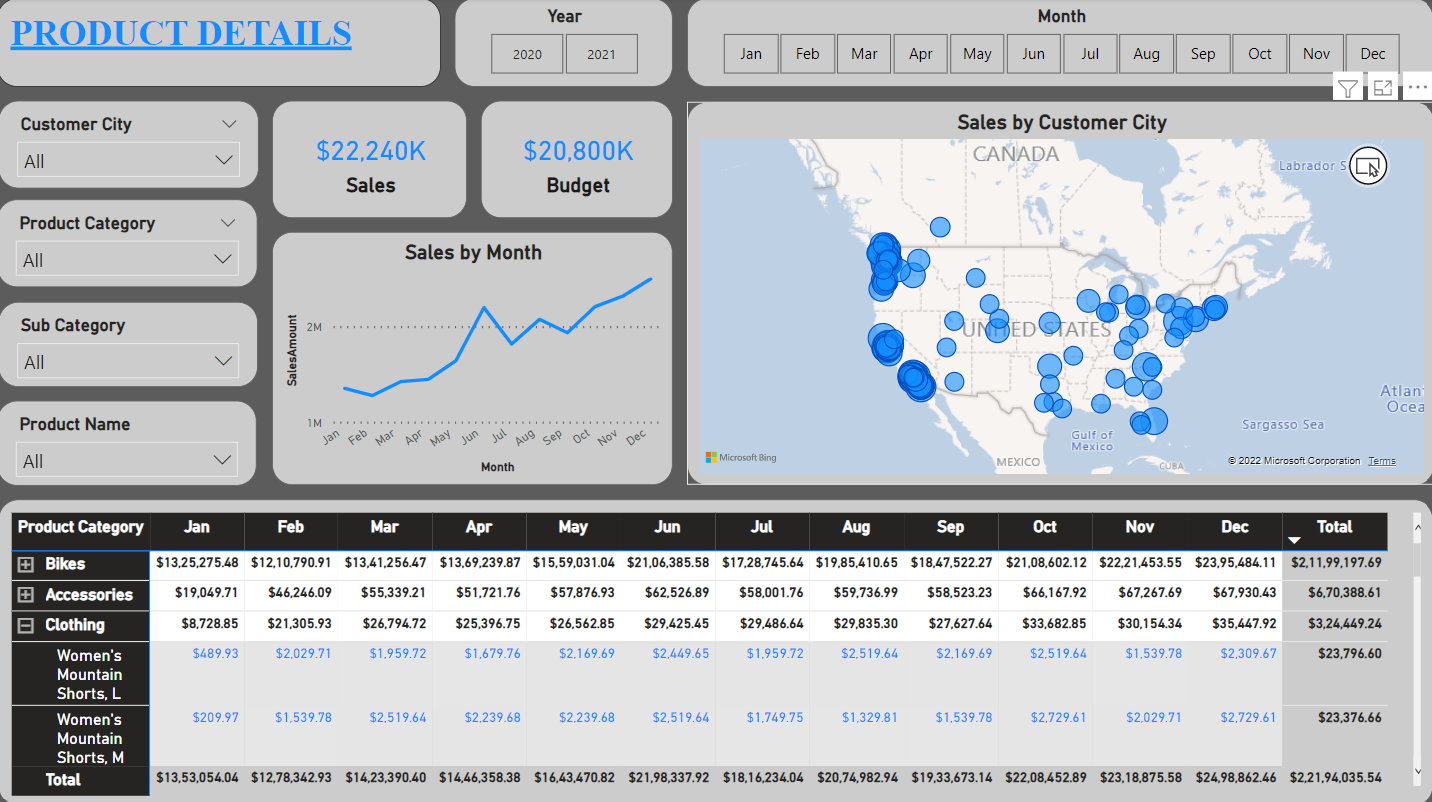

What the dashboard file says about the page in this screenshot:
{"tool":"powerbi","page":{"name":"Product Details","canvas":[1280,720],"ordinal":2},"visuals":[{"type":"textbox","box":[0,0,395.6,79.6],"z":0},{"type":"slicer","fields":{"Values":["DIM_Product.Product Category"]},"box":[0,179.7,232,78.4],"z":1000},{"type":"slicer","fields":{"Values":["DIM_Product.Sub Category"]},"box":[1.2,270.2,231.6,76],"z":2000},{"type":"slicer","fields":{"Values":["DIM_Product.Product Name"]},"box":[0,358.2,231.6,76],"z":3000},{"type":"slicer","fields":{"Values":["DIM_Customers.Customer City"]},"box":[1.2,91.7,232,78],"z":4000},{"type":"slicer","title":"Year","fields":{"Values":["DIM_Calendar.Year"]},"box":[407.6,0,194.2,79.6],"z":5000},{"type":"slicer","title":"Month","fields":{"Values":["DIM_Calendar.MonthShort"]},"box":[613.9,0,665.7,79.6],"z":6000},{"type":"pivotTable","fields":{"Rows":["DIM_Product.Product Category","DIM_Product.Product Name"],"Columns":["DIM_Calendar.MonthShort"],"Values":["Analysis Metrics.Sales"]},"box":[1.2,446.2,1278.8,273.8],"z":7000},{"type":"card","fields":{"Values":["Analysis Metrics.Sales"]},"box":[244.8,91.7,173.7,104.9],"z":8000},{"type":"card","fields":{"Values":["Analysis Metrics.Budget_Amount"]},"box":[430.6,91.7,171.3,104.9],"z":9000},{"type":"lineChart","title":"Sales by Month","fields":{"Y":["Sum(FACT_InternetSales.SalesAmount)"],"Category":["DIM_Calendar.MonthShort"]},"box":[244.8,208.6,357,225.5],"z":10000},{"type":"map","fields":{"Category":["DIM_Customers.Customer City"],"Size":["Analysis Metrics.Sales"]},"box":[613.8,92.5,666.2,341.2],"z":11000}]}

Visuals, with their boxes in screenshot pixels (x1, y1, x2, y2), scaled from the page's 1280x720 canvas onto the 1432x802 screenshot:
textbox: box=[0, 0, 443, 89]
slicer - DIM_Product.Product Category: box=[0, 200, 260, 287]
slicer - DIM_Product.Sub Category: box=[1, 301, 260, 386]
slicer - DIM_Product.Product Name: box=[0, 399, 259, 484]
slicer - DIM_Customers.Customer City: box=[1, 102, 261, 189]
"Year" slicer: box=[456, 0, 673, 89]
"Month" slicer: box=[687, 0, 1431, 89]
pivotTable - DIM_Product.Product Category x DIM_Product.Product Name: box=[1, 497, 1431, 801]
card - Analysis Metrics.Sales: box=[274, 102, 468, 219]
card - Analysis Metrics.Budget_Amount: box=[482, 102, 673, 219]
"Sales by Month" lineChart: box=[274, 232, 673, 484]
map - DIM_Customers.Customer City x Analysis Metrics.Sales: box=[687, 103, 1431, 483]
